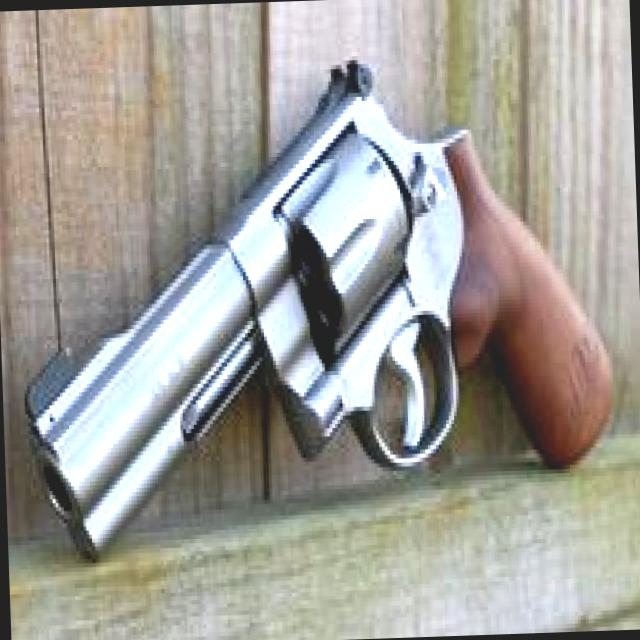revolver: (0, 4, 640, 612)
